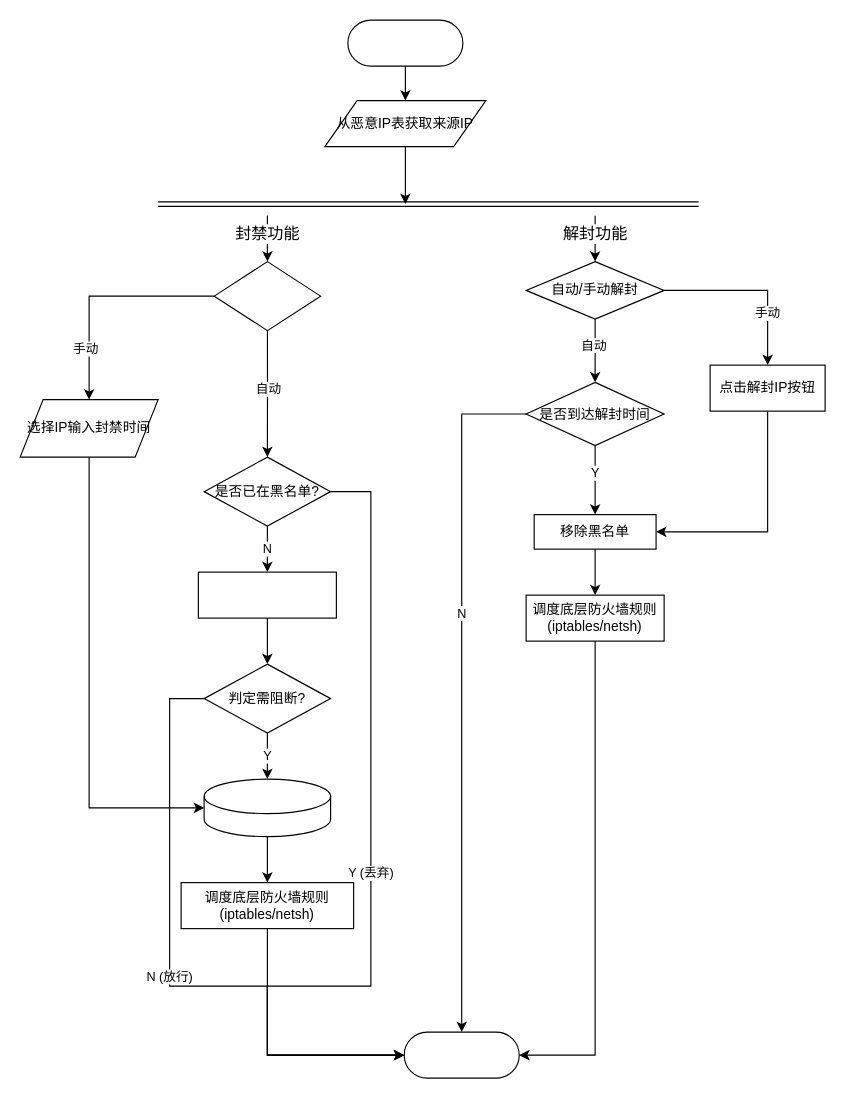
Image size: 845x1098. Some labels were removed from this diagram. The centre of each missing label's shape, as x and y in pixels:
"AI和规则引擎双重判定" goes at pixel 266 594.
"写入黑名单封禁表" goes at pixel 267 807.
"开始" goes at pixel 405 42.
"结束" goes at pixel 461 1054.
"自动/手动封禁" goes at pixel 267 295.
